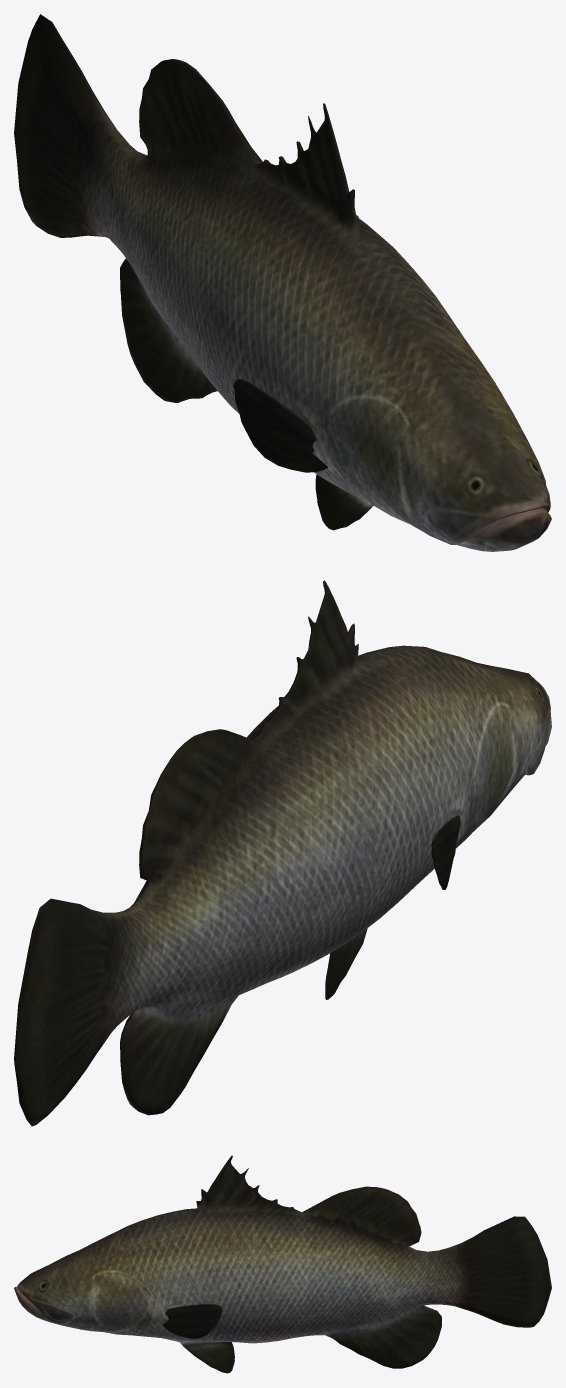
File: barramundi.glb
The picture shows the model from 3 angles, top to bottom: view 1: azimuth 30°, elevation 25°; view 2: azimuth 150°, elevation 25°; view 3: azimuth 270°, elevation 25°; orthographic projection. The views are drawn at different scales.
Visible parts, largest first — view 1: BarramundiFish; view 2: BarramundiFish; view 3: BarramundiFish.
Part boxes in pixels (x1,y1,x2,y2): BarramundiFish: [14, 14, 551, 551]; BarramundiFish: [14, 580, 551, 1126]; BarramundiFish: [14, 1155, 551, 1373].
Bounding box in the file's own units: 0.1429 × 0.2875 × 0.6431.
Materials: 1 (1 with a texture image).
